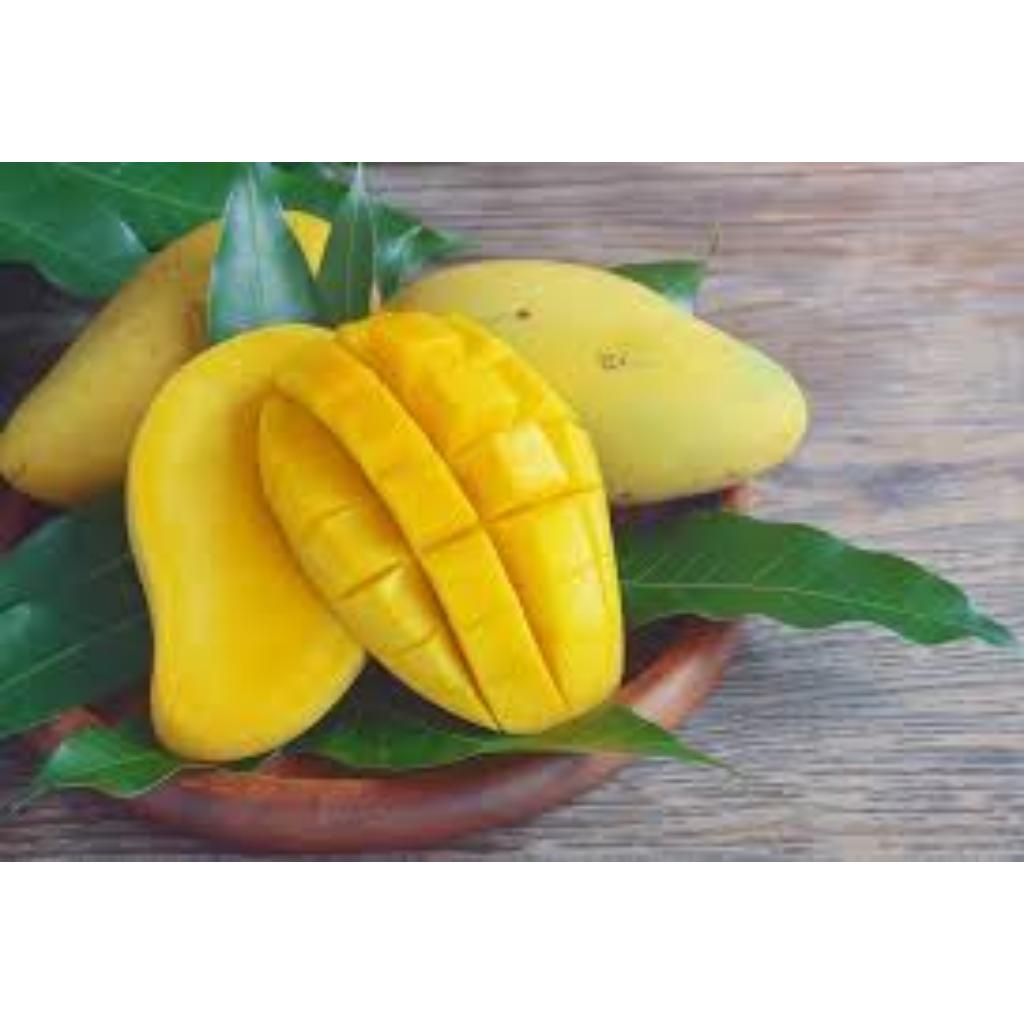mango: (256, 313, 625, 742), (0, 208, 397, 505), (123, 328, 364, 770), (387, 262, 805, 516)
